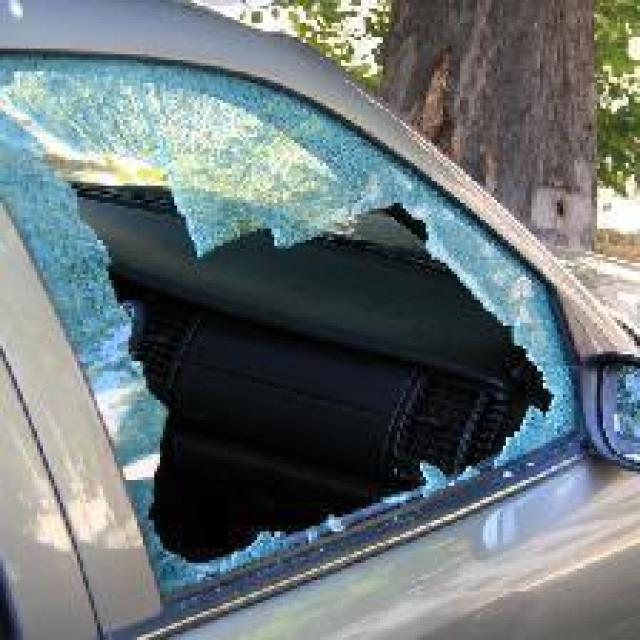damaged: (6, 57, 574, 597)
